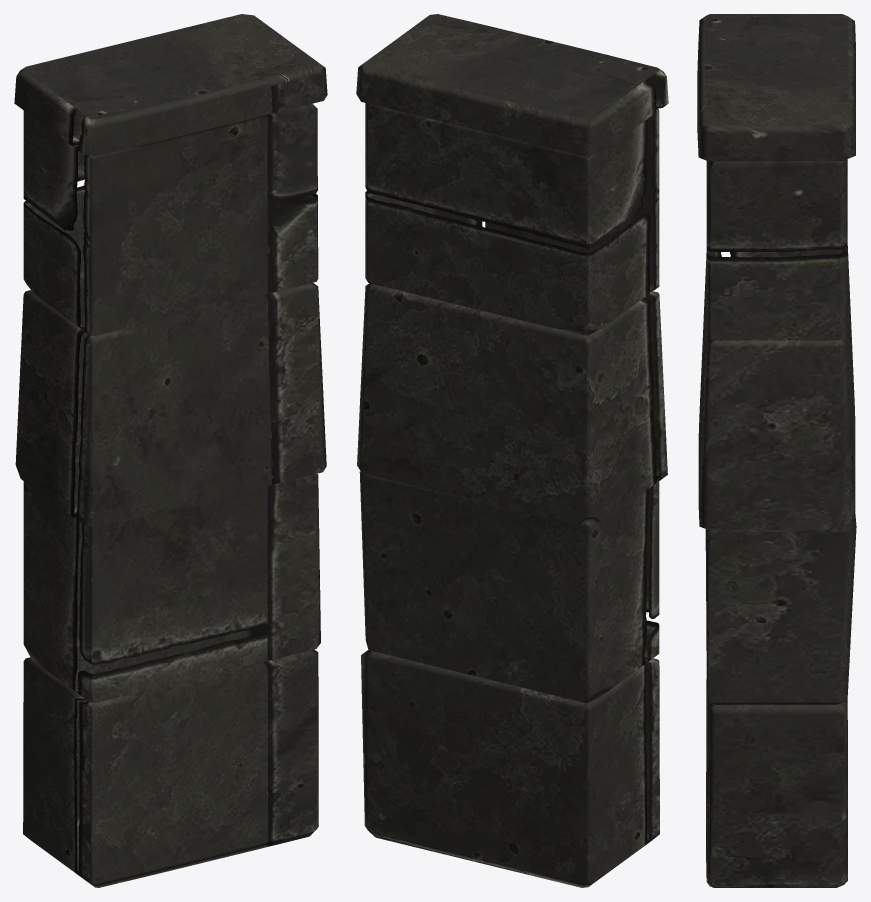
3 views of the same model, side by side, from view 1: azimuth 30°, elevation 25°; view 2: azimuth 150°, elevation 25°; view 3: azimuth 270°, elevation 25° (orthographic).
Parts seen in each view (by area): view 1: SM_Greathall_Stepout_In_Corner_3x10_01_LOD0; view 2: SM_Greathall_Stepout_In_Corner_3x10_01_LOD0; view 3: SM_Greathall_Stepout_In_Corner_3x10_01_LOD0.
Boxes of the visible parts, x1=… form: SM_Greathall_Stepout_In_Corner_3x10_01_LOD0: x1=14, y1=14, x2=327, y2=887; SM_Greathall_Stepout_In_Corner_3x10_01_LOD0: x1=356, y1=14, x2=668, y2=887; SM_Greathall_Stepout_In_Corner_3x10_01_LOD0: x1=697, y1=14, x2=856, y2=887.
Bounding box in the file's own units: 1.99 × 6 × 1.13.
